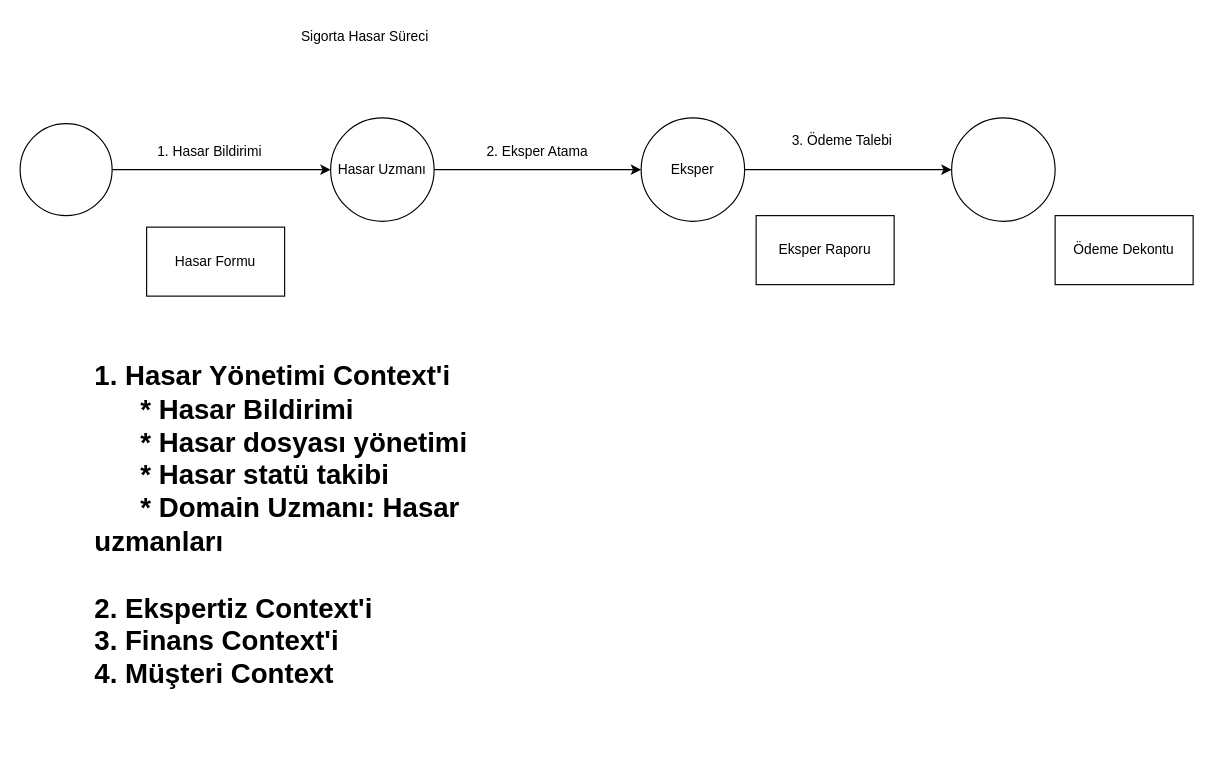
The diagram is 1213 pixels wide and 775 high, and some of its shapes have lost their labels. Each missing label, with the box of its shape:
Finans: (950, 117, 1055, 221)
Müşteri: (19, 122, 112, 216)
